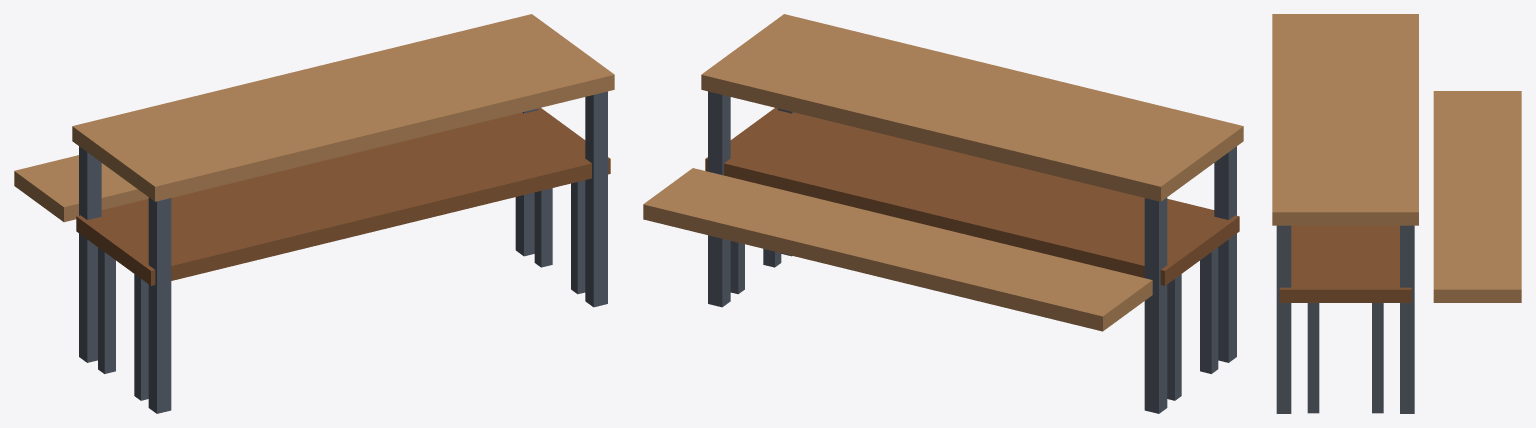
File: lectureDesk.glb
3 views of the same model, side by side, from view 1: azimuth 30°, elevation 25°; view 2: azimuth 150°, elevation 25°; view 3: azimuth 270°, elevation 25° (orthographic). The views are drawn at different scales.
Parts seen in each view (by area): view 1: lectureDesk-b9895a, lectureDesk-8a5a35, lectureDesk-5b6470; view 2: lectureDesk-b9895a, lectureDesk-8a5a35, lectureDesk-5b6470; view 3: lectureDesk-b9895a, lectureDesk-8a5a35, lectureDesk-5b6470.
Part boxes in pixels (x1,y1,x2,y2): lectureDesk-b9895a: (14, 14, 614, 222); lectureDesk-8a5a35: (76, 108, 610, 285); lectureDesk-5b6470: (79, 91, 607, 413); lectureDesk-b9895a: (643, 14, 1243, 331); lectureDesk-8a5a35: (705, 108, 1239, 285); lectureDesk-5b6470: (708, 91, 1236, 413); lectureDesk-b9895a: (1272, 14, 1521, 302); lectureDesk-8a5a35: (1279, 225, 1411, 302); lectureDesk-5b6470: (1276, 225, 1414, 413).
Size of the model in its own units: 1.6 by 0.765 by 0.85.
